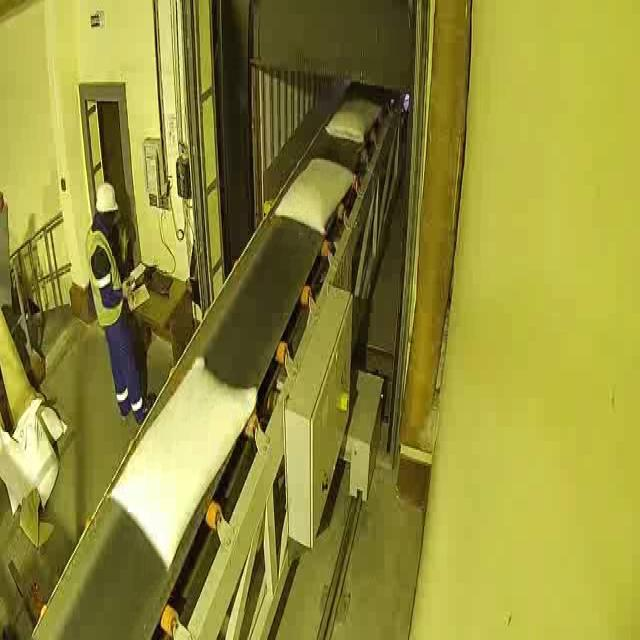bag: (108, 352, 259, 569), (273, 151, 356, 237), (324, 92, 382, 146)
